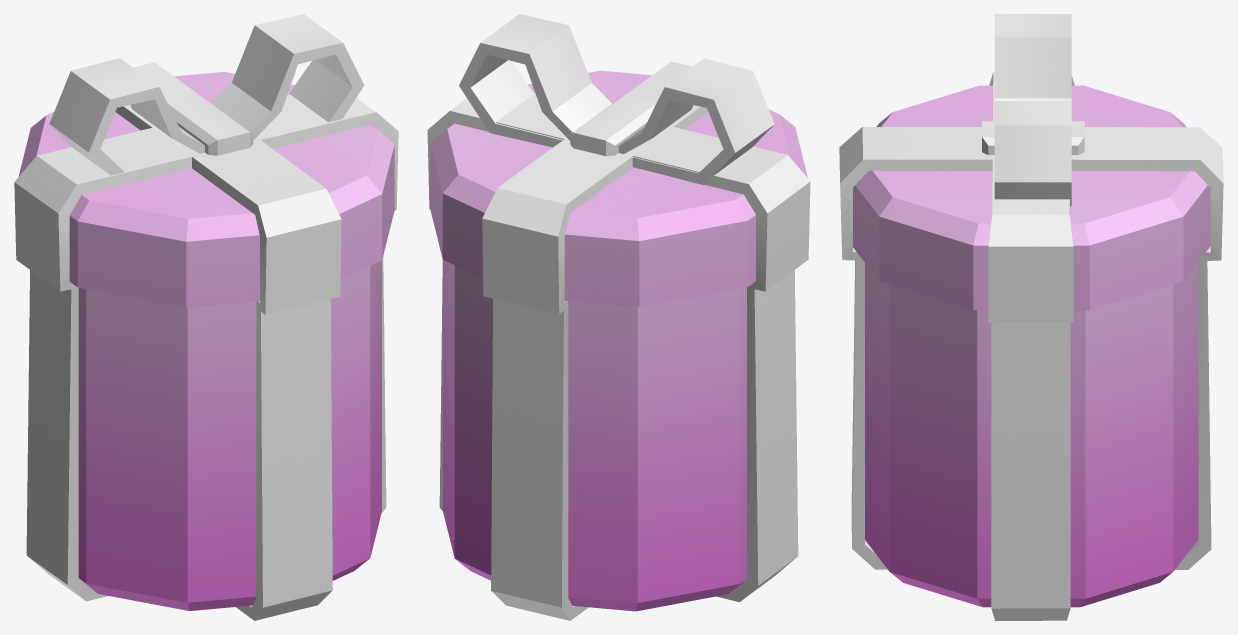
3 views of the same model, side by side, from view 1: azimuth 30°, elevation 25°; view 2: azimuth 150°, elevation 25°; view 3: azimuth 270°, elevation 25° (orthographic). The views are drawn at different scales.
Parts seen in each view (by area): view 1: Christmas_Present_02; view 2: Christmas_Present_02; view 3: Christmas_Present_02.
Part boxes in pixels (x1,y1,x2,y2): Christmas_Present_02: (14,14,398,620); Christmas_Present_02: (427,14,810,620); Christmas_Present_02: (839,14,1223,620).
Bounding box in the file's own units: 598 × 835 × 598.
Materials: 1 (1 with a texture image).
